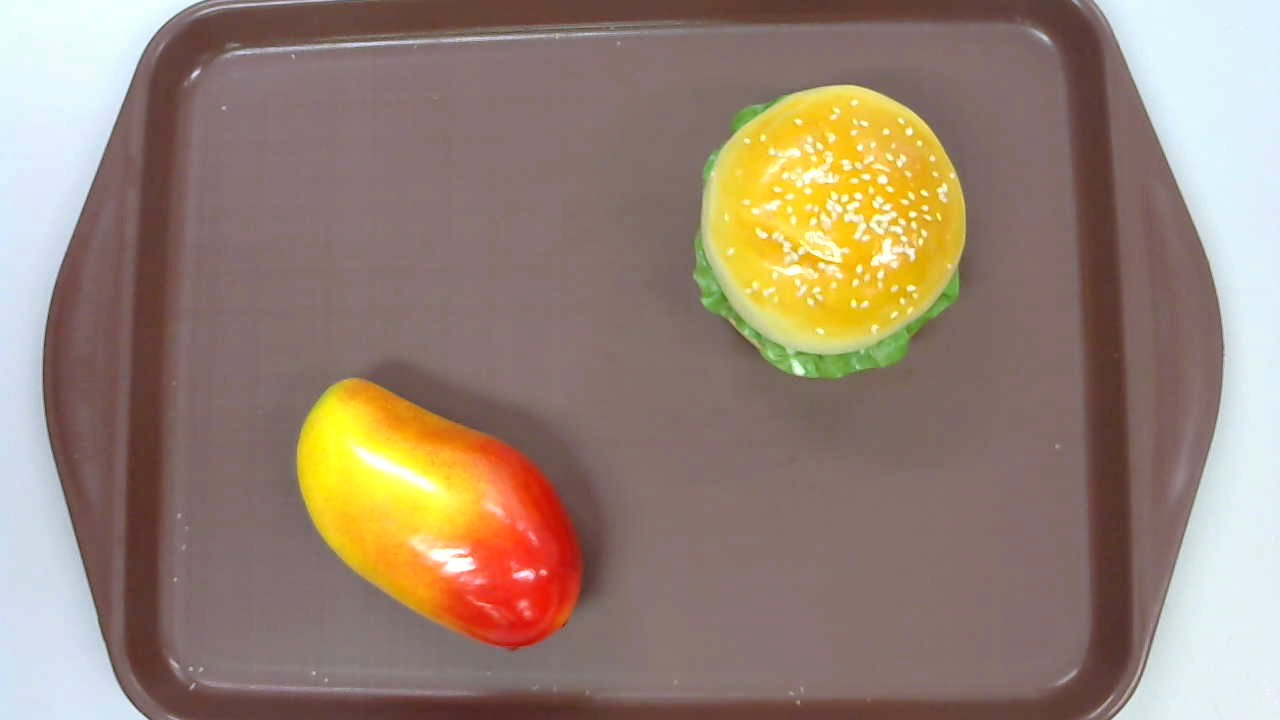hamburger: (693, 84, 965, 379)
red mango: (295, 377, 585, 652)
